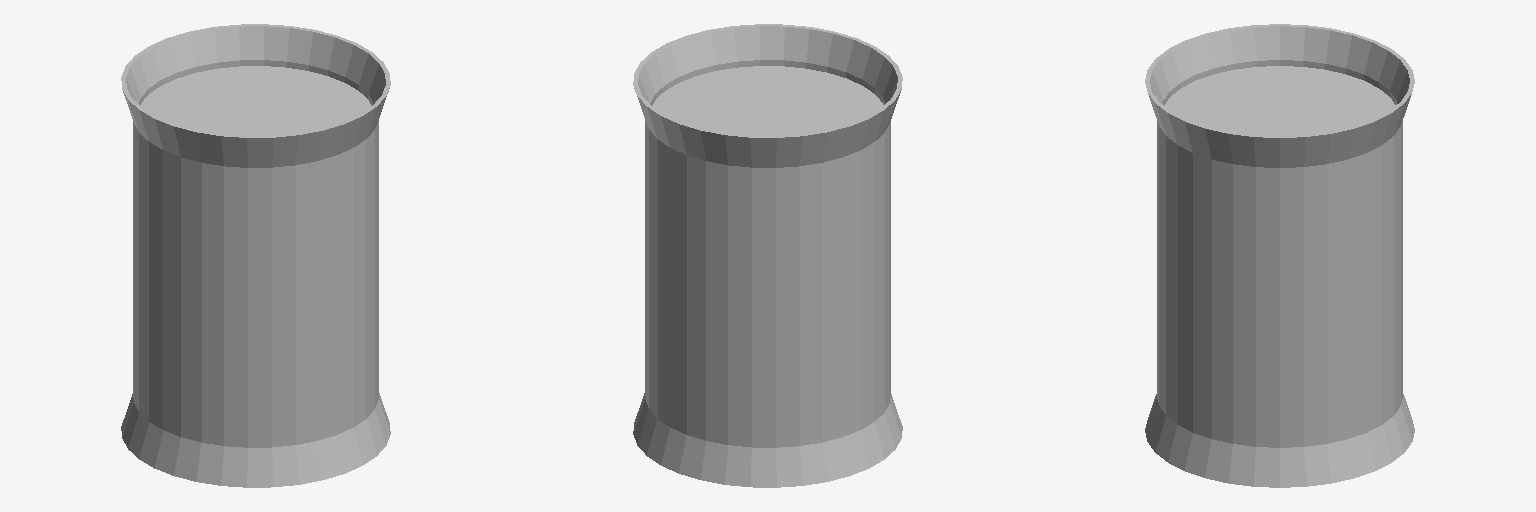
File: piston_vessel.obj
3 views of the same model, side by side, from view 1: azimuth 30°, elevation 25°; view 2: azimuth 150°, elevation 25°; view 3: azimuth 270°, elevation 25° (orthographic).
Parts seen in each view (by area): view 1: Cylinder, Cylinder.001_Cylinder.002; view 2: Cylinder, Cylinder.001_Cylinder.002; view 3: Cylinder, Cylinder.001_Cylinder.002.
Boxes of the visible parts, x1,y1,x2,y2 form: Cylinder: [121, 24, 390, 487]; Cylinder.001_Cylinder.002: [140, 66, 371, 135]; Cylinder: [633, 24, 902, 487]; Cylinder.001_Cylinder.002: [652, 66, 883, 135]; Cylinder: [1145, 24, 1414, 487]; Cylinder.001_Cylinder.002: [1164, 66, 1395, 135].
Bounding box in the file's own units: 0.7 × 1 × 0.7.